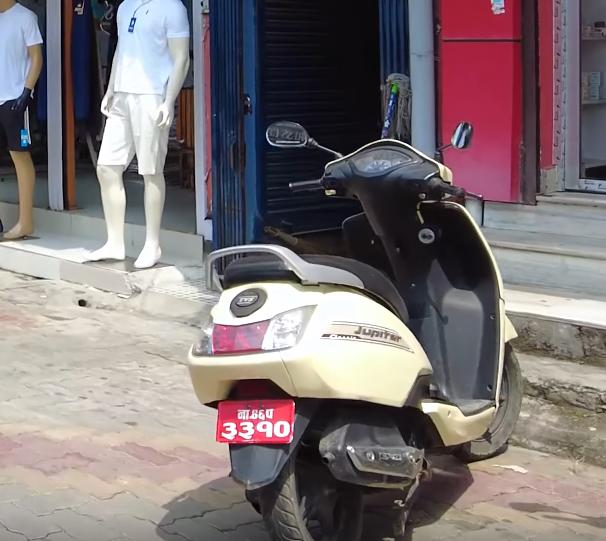scooter: (188, 118, 525, 541)
